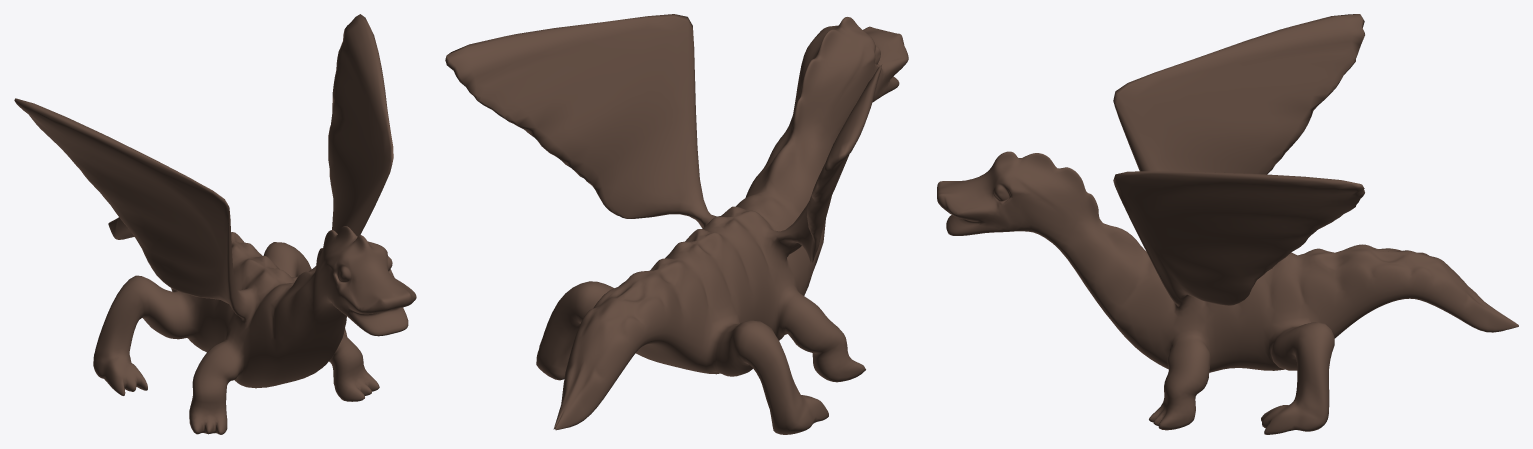
File: drak.dae
3 renders of one model, left to right at view 1: azimuth 30°, elevation 25°; view 2: azimuth 150°, elevation 25°; view 3: azimuth 270°, elevation 25°, orthographic. The views are drawn at different scales.
Parts seen in each view (by area): view 1: drak; view 2: drak; view 3: drak.
Boxes of the visible parts, x1,y1,x2,y2 form: drak: (14, 14, 416, 434); drak: (445, 14, 908, 434); drak: (937, 14, 1518, 434).
Size of the model in its own units: 4.78 by 6.9 by 3.82.
